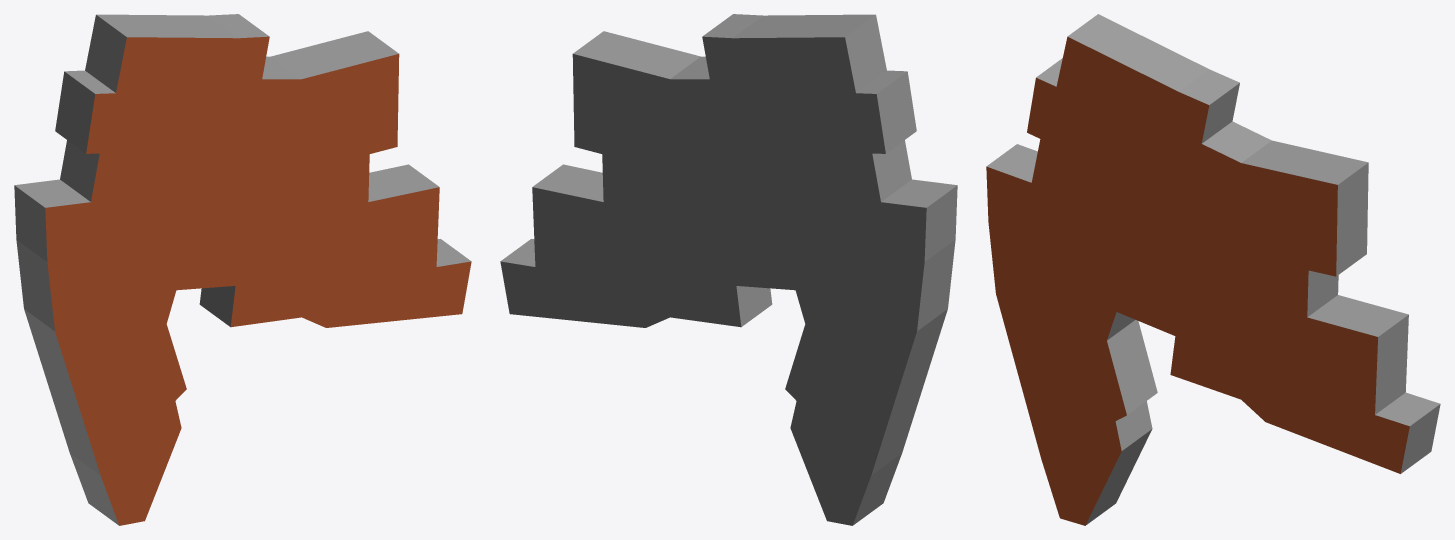
File: construction_5073_assumed_A_Casa_h6m.obj
The picture shows the model from 3 angles, left to right: view 1: azimuth 30°, elevation 25°; view 2: azimuth 150°, elevation 25°; view 3: azimuth 330°, elevation 25°; orthographic projection.
Parts seen in each view (by area): view 1: construction_5073_assumed_A_Casa; view 2: construction_5073_assumed_A_Casa; view 3: construction_5073_assumed_A_Casa.
Part boxes in pixels (<box>): construction_5073_assumed_A_Casa: <box>14,14,471,525</box>; construction_5073_assumed_A_Casa: <box>500,14,957,525</box>; construction_5073_assumed_A_Casa: <box>986,14,1440,525</box>.
Bounding box in the file's own units: 47.65 × 52.15 × 6.
